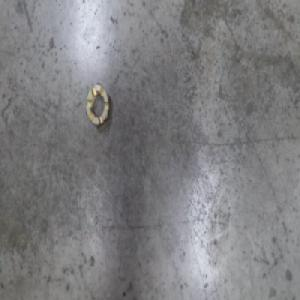Nut: (84, 80, 111, 128)
